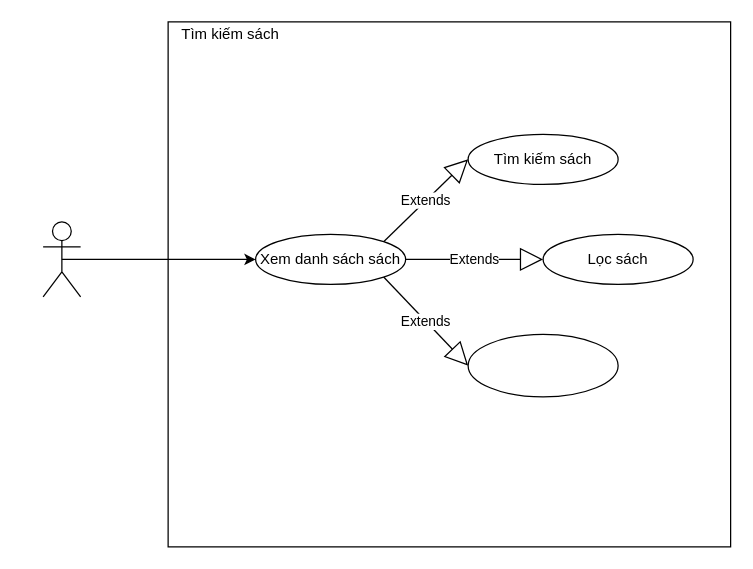
Some shapes in this 753 by 569 pixel diagram are drawn without their labels. The centre of each missing label's shape, as x and y in pixels:
"Khách hàng" goes at point (61, 259).
"Sắp xếp thứ tự hiển thị" goes at point (542, 365).
